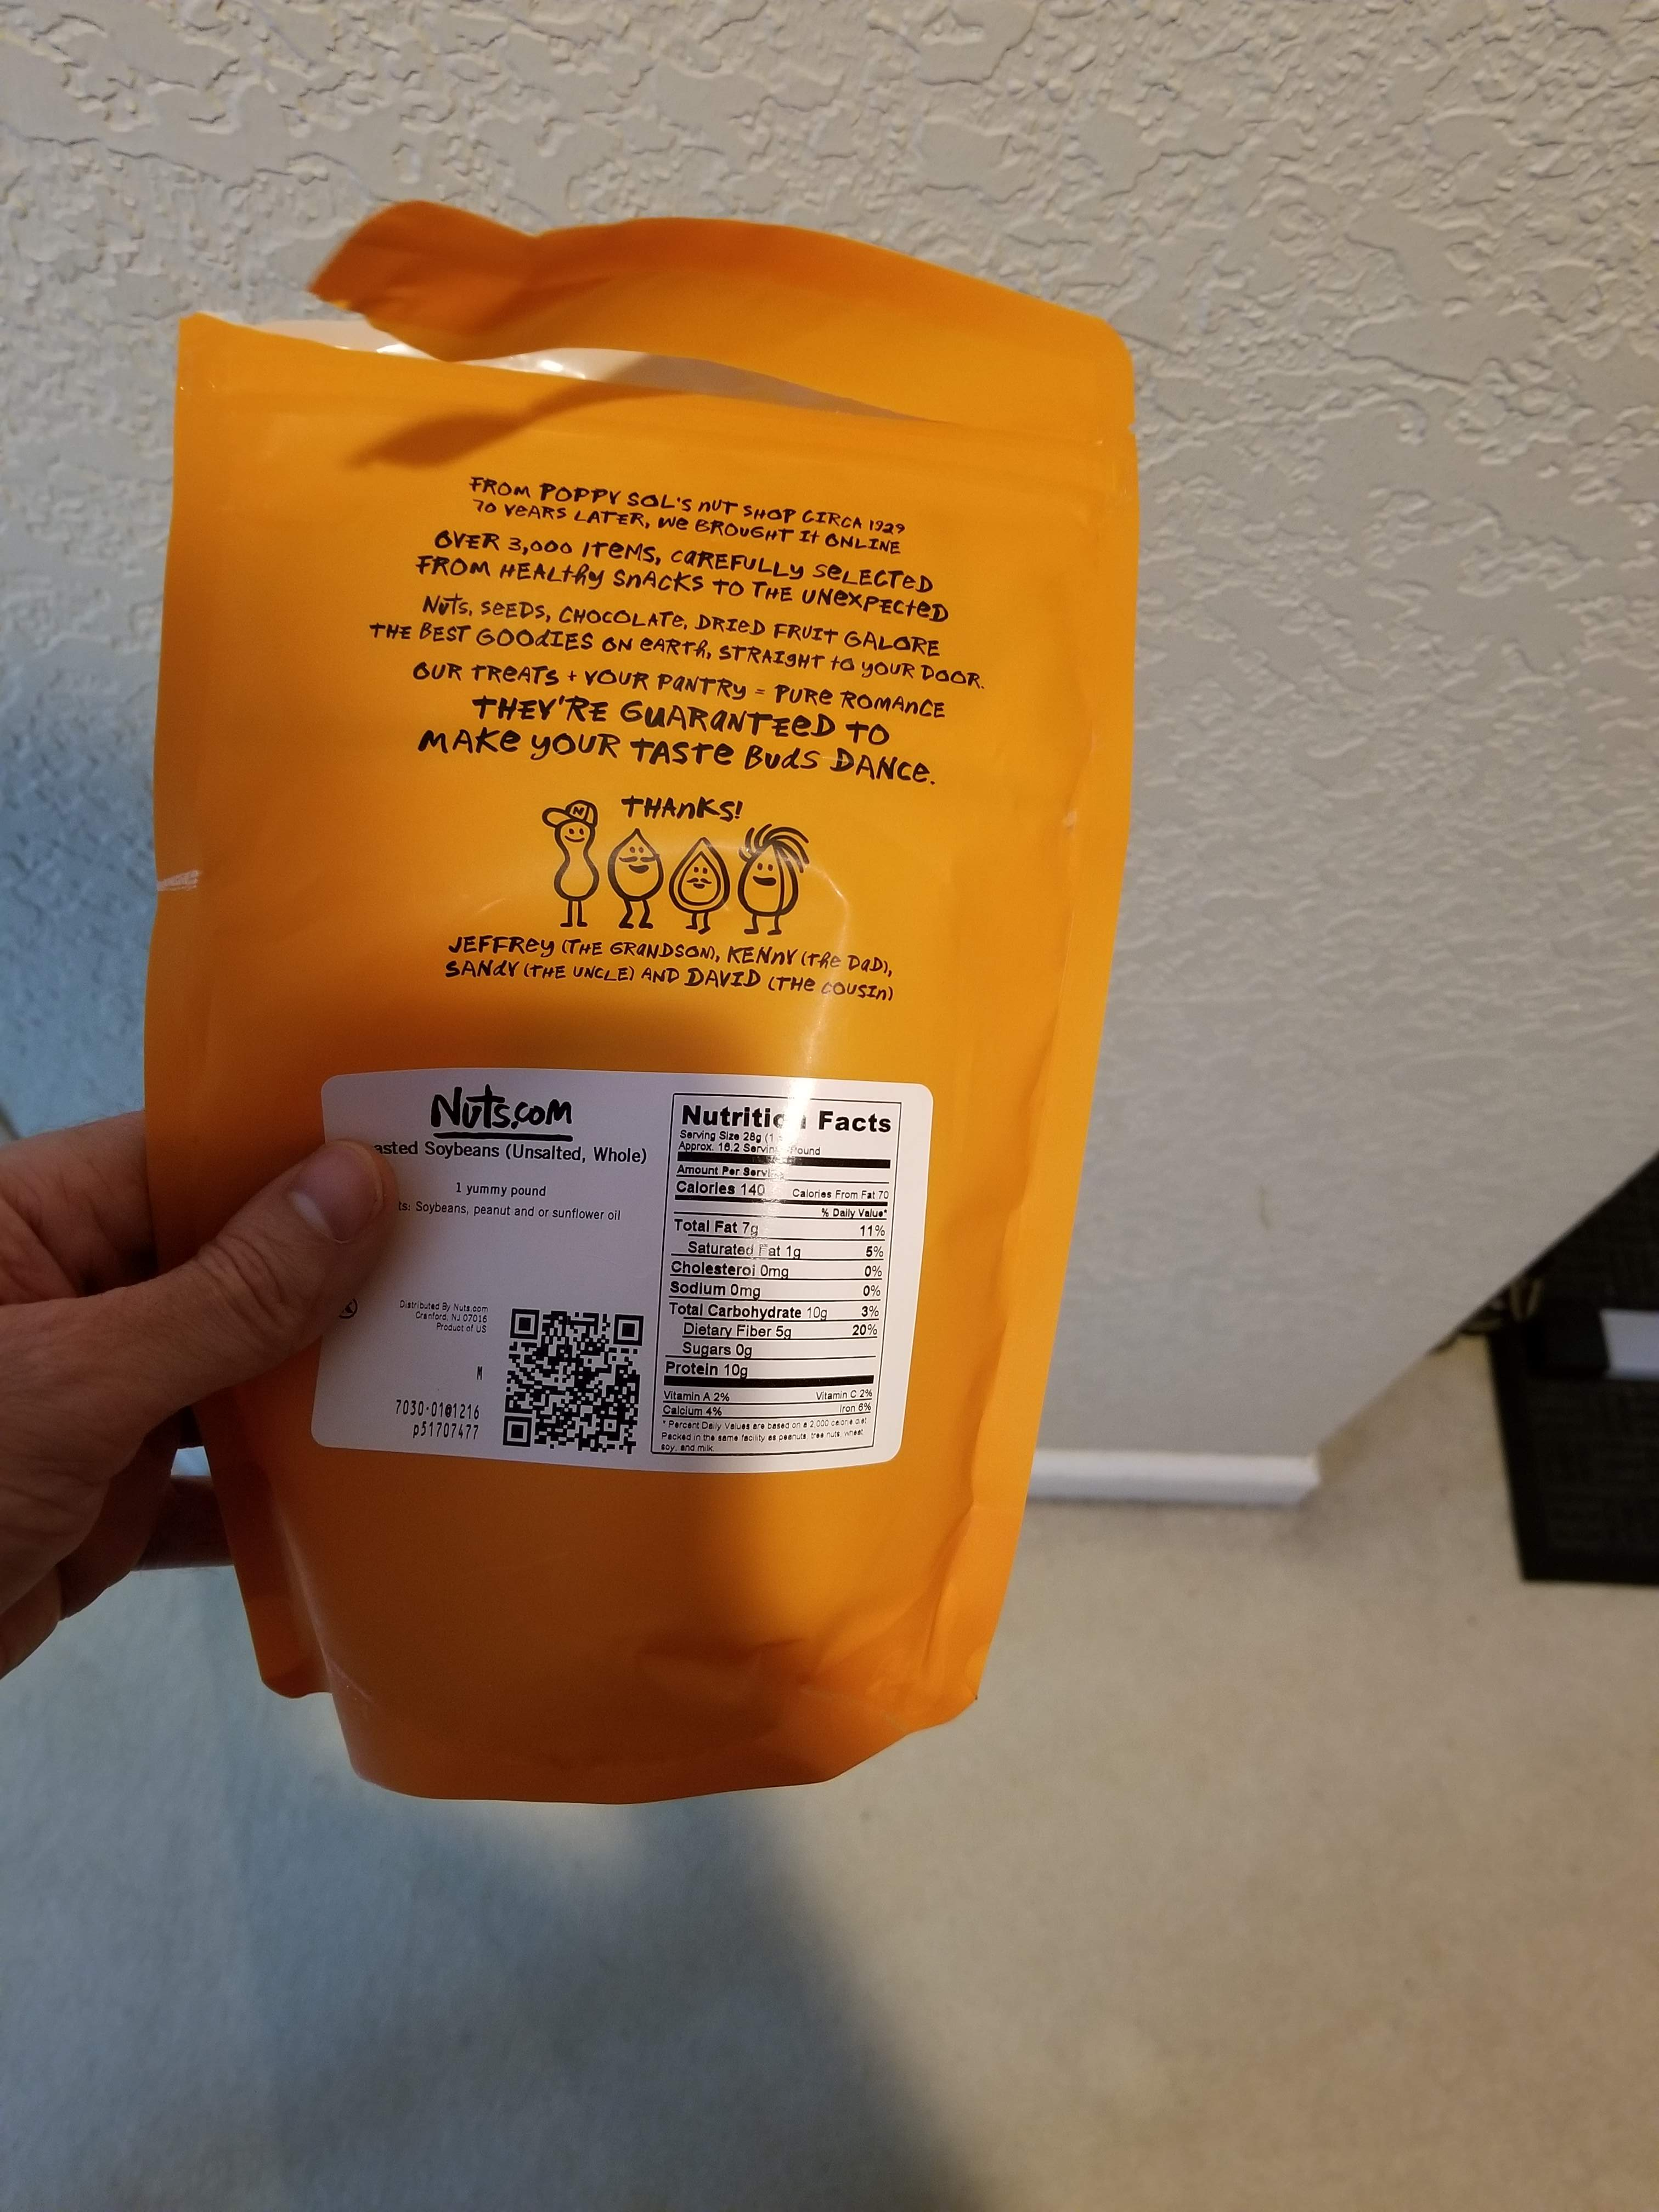QR_CODE: (483, 1268, 662, 1470)
